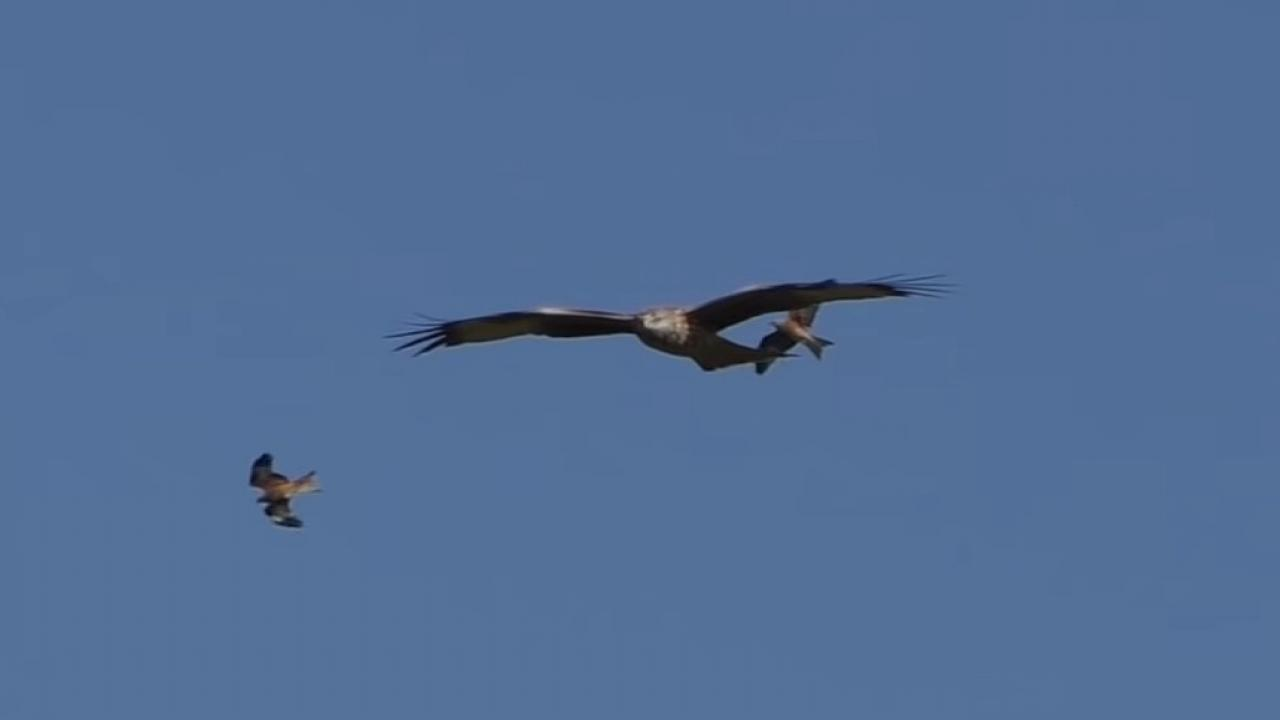Bird: (373, 263, 958, 377), (237, 446, 335, 534), (743, 297, 840, 379)
